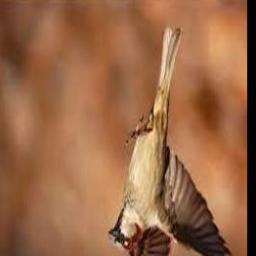Sparrow: (108, 26, 236, 256)
